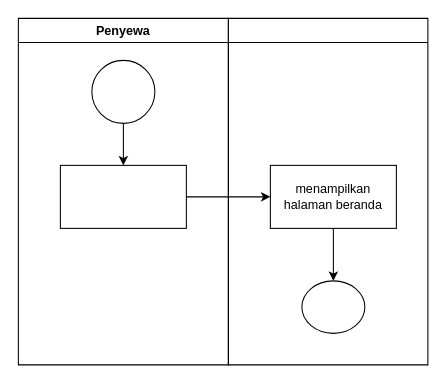
The diagram is 446 pixels wide and 383 high, and some of its shapes have lost their labels. The box of each missing label's shape, as (x1, y1, x2, y2) in pixels:
penyewa mengakses web: (59, 164, 186, 228)
sistem: (227, 17, 428, 365)
